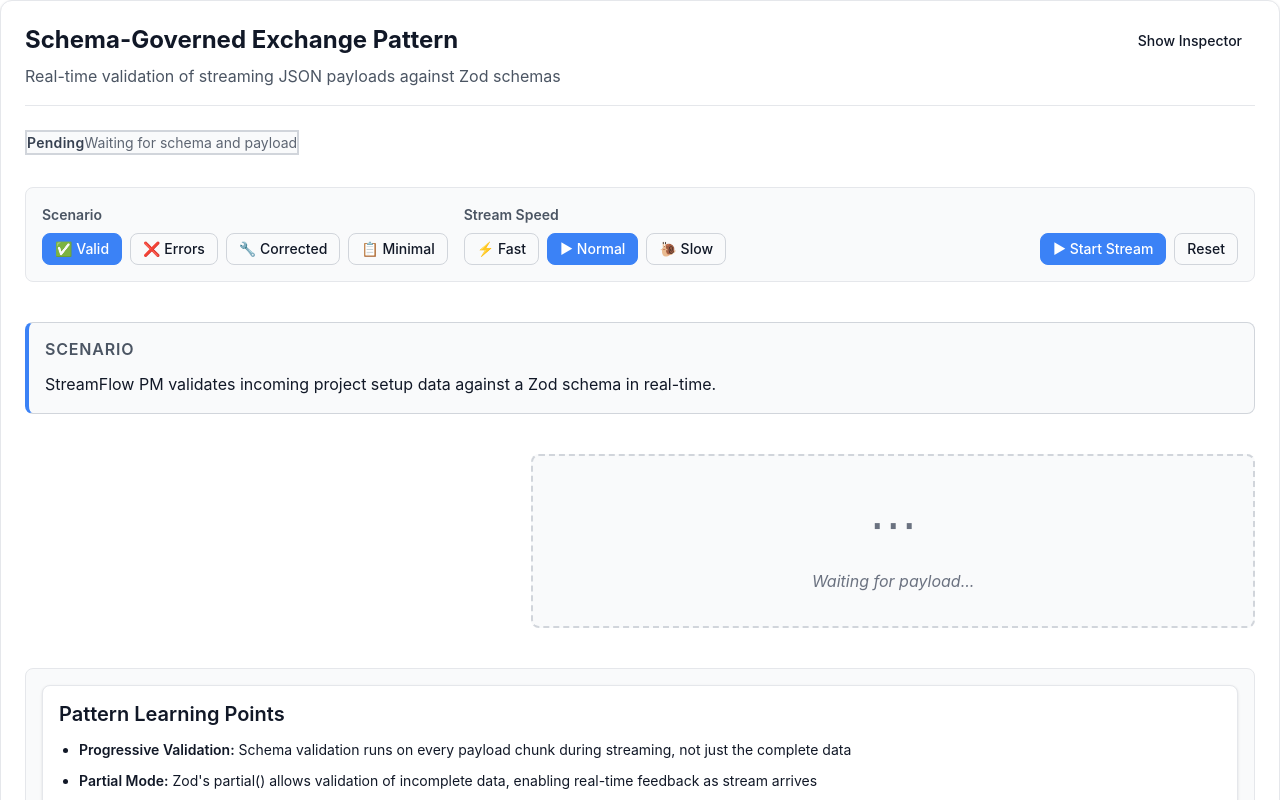
Test case: SchemaExchangeDemo › should reset demo when Reset button is clicked
Click the button "▶ Start Stream" at (1103, 249), box [1040,233,1166,265]
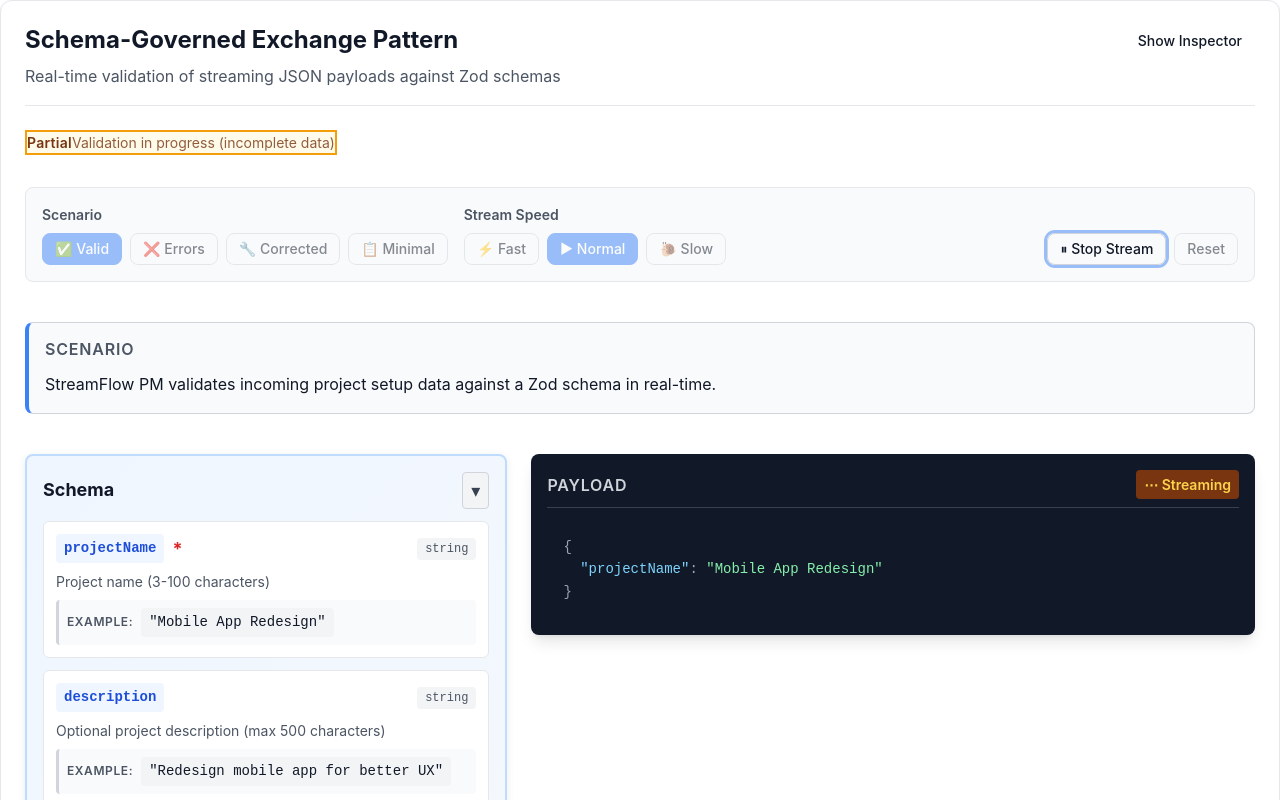
Now the text "Pending" is gone
Click the button "⏸ Stop Stream" at (1107, 249), box [1047,233,1166,265]
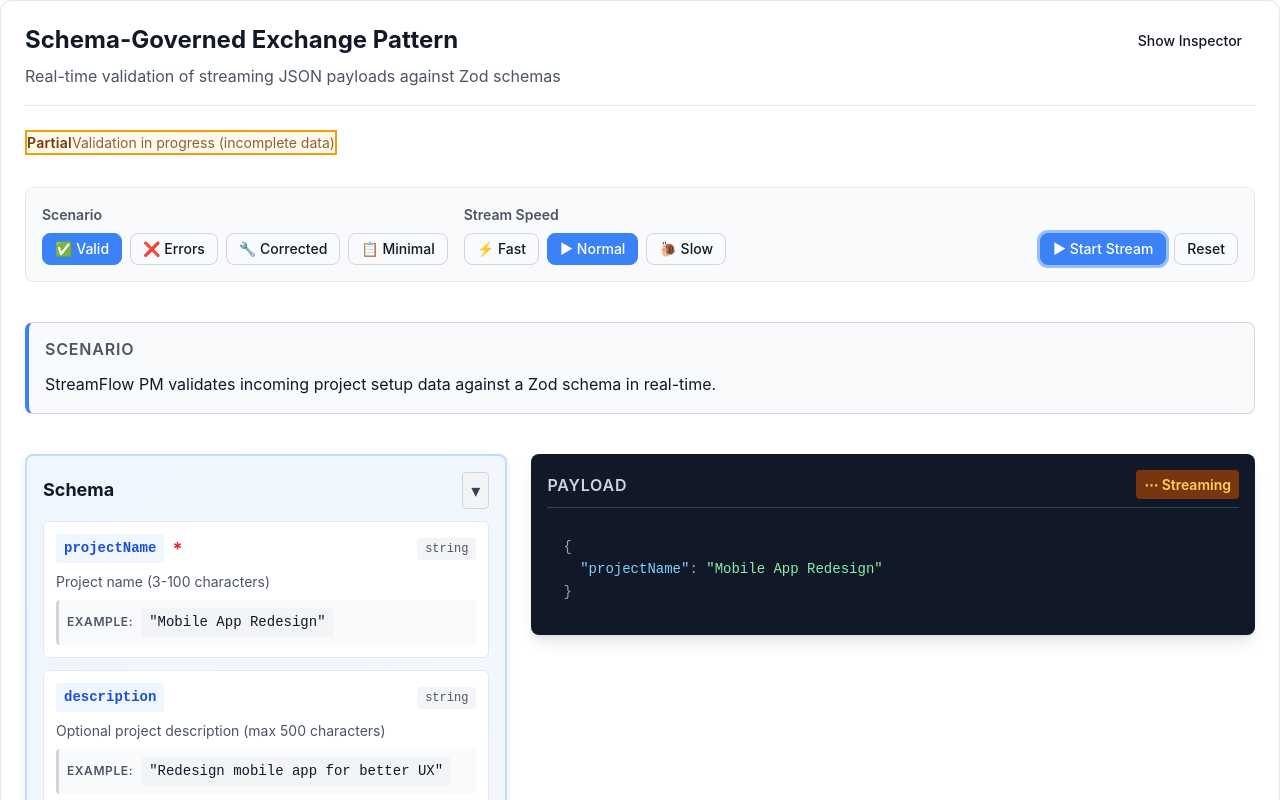
Click the button "Reset" at (1206, 249), box [1174,233,1238,265]
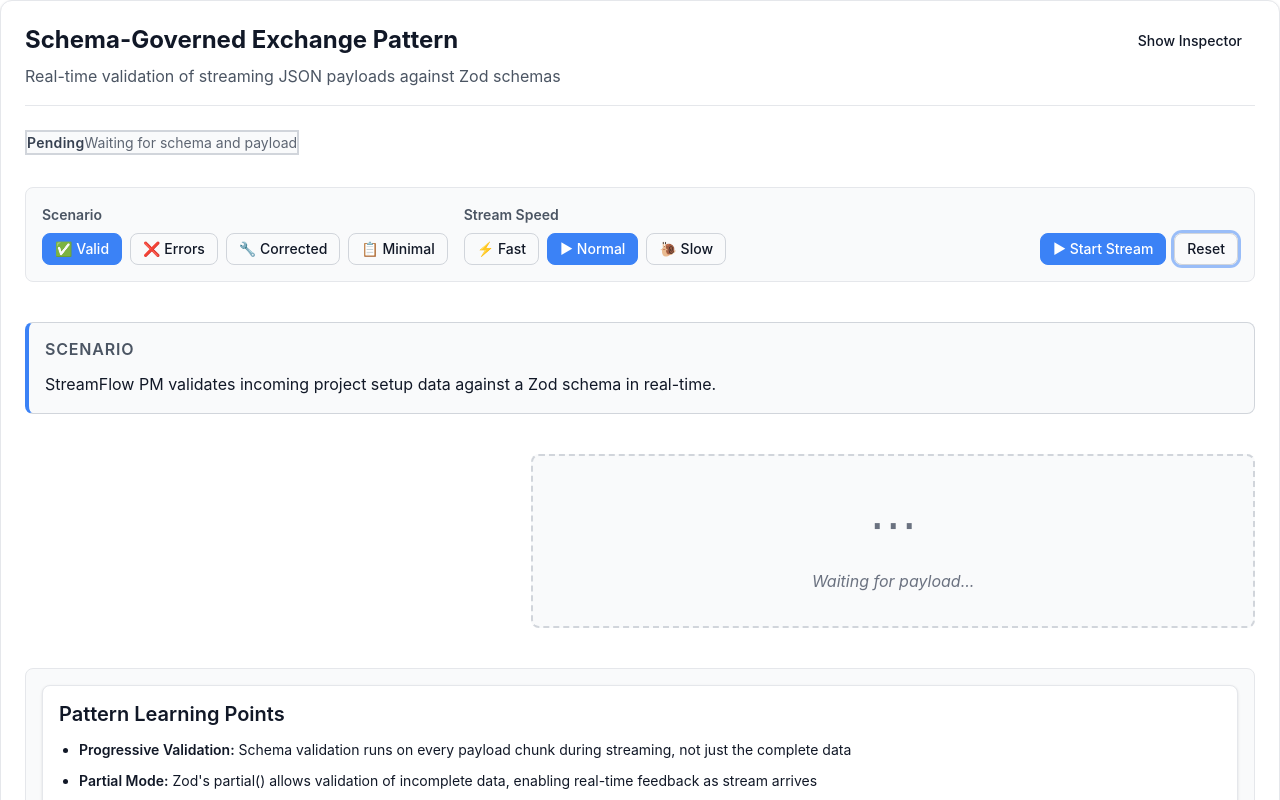
Now the text "Pending" is shown, box [27,132,84,153]
